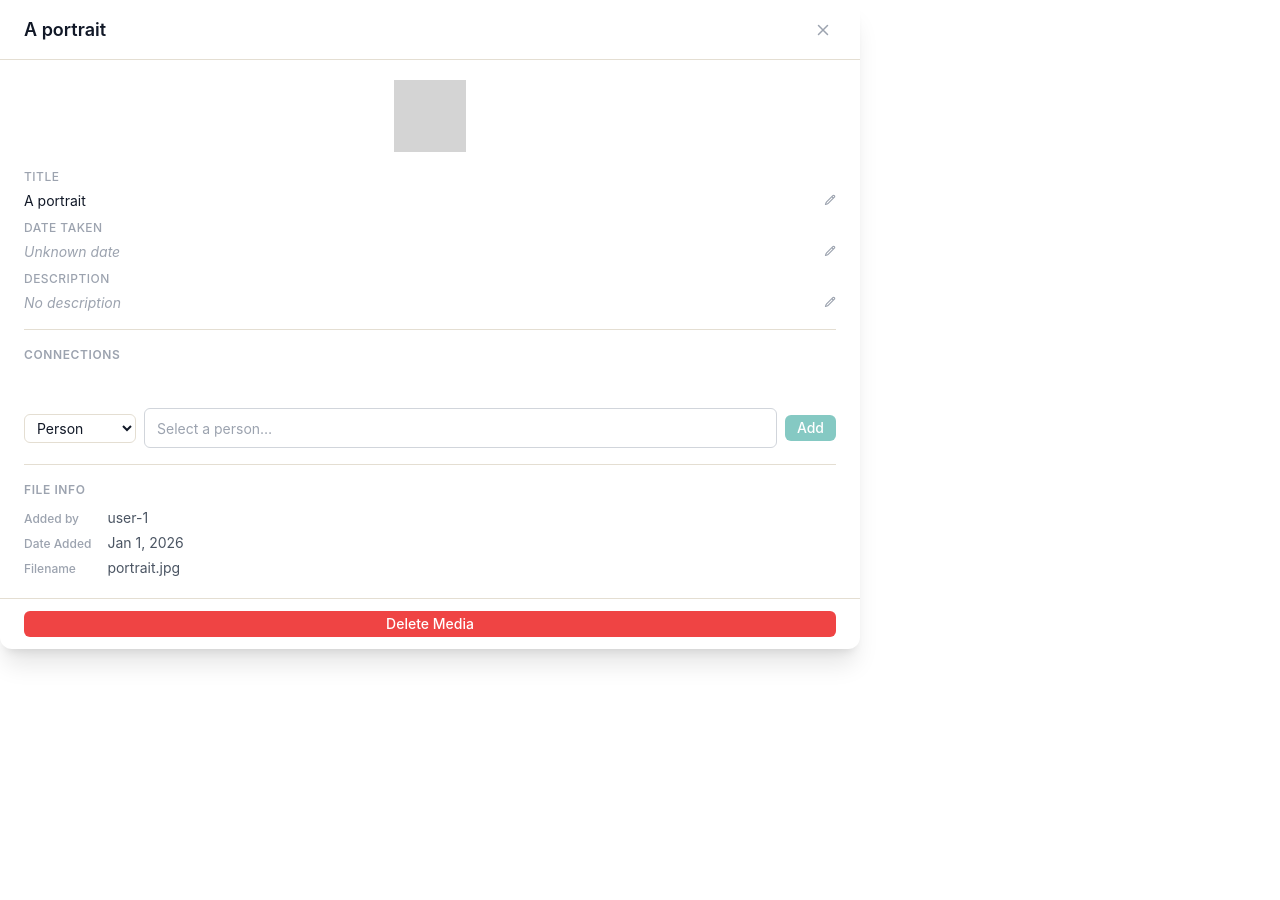
Test: MediaEditor — connecting a person › searches for a family by name instead of listing ids
Expected: the button "Select a person…" is shown, [144,408,777,448]
Select "Family" in the dropdown named "link type" at (80, 428), box [24,414,136,442]
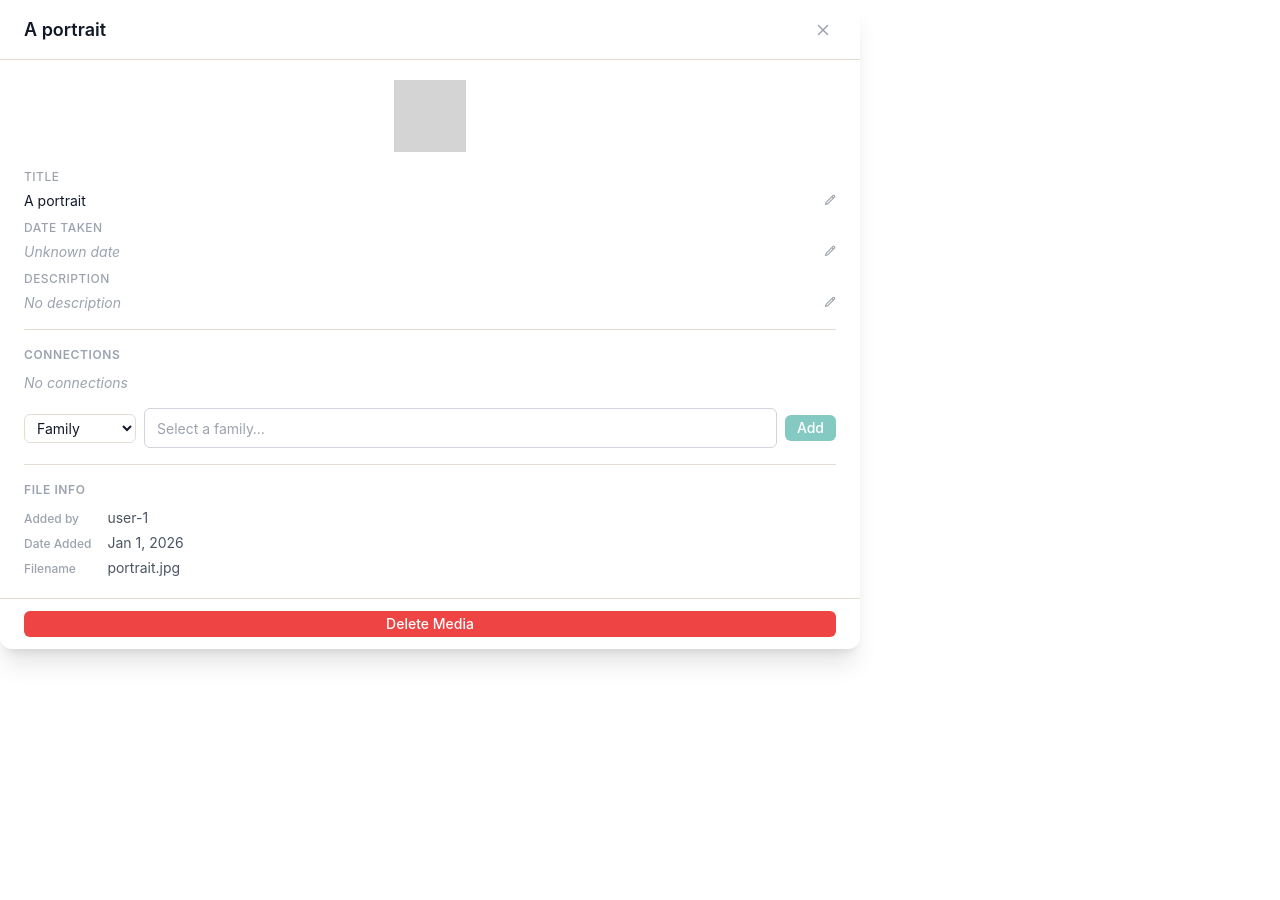
Expected: the button "Select a family…" is shown, [144,408,777,448]
